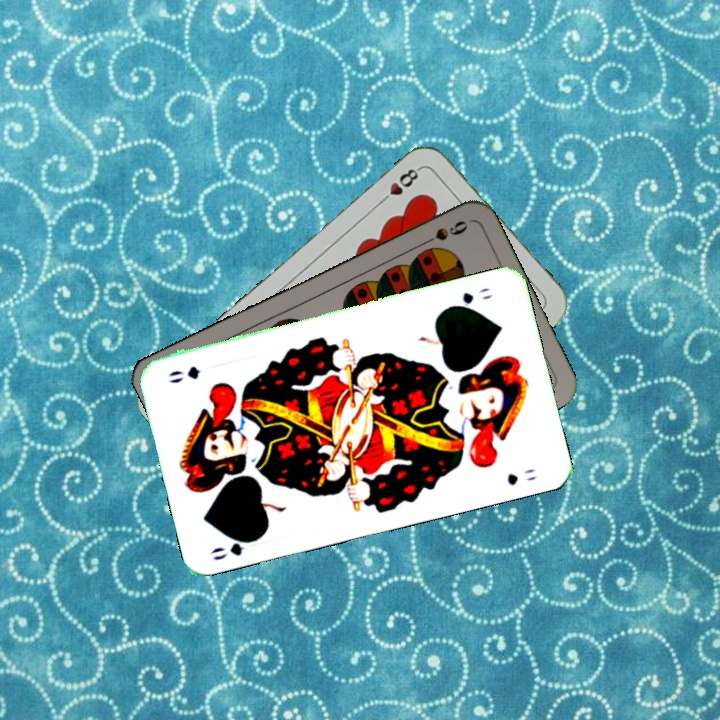GO: (206, 532, 264, 563), (444, 283, 495, 311)
H8: (375, 163, 424, 207)
S9: (415, 216, 471, 249)
